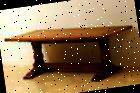Mesa: (3, 16, 139, 92)
